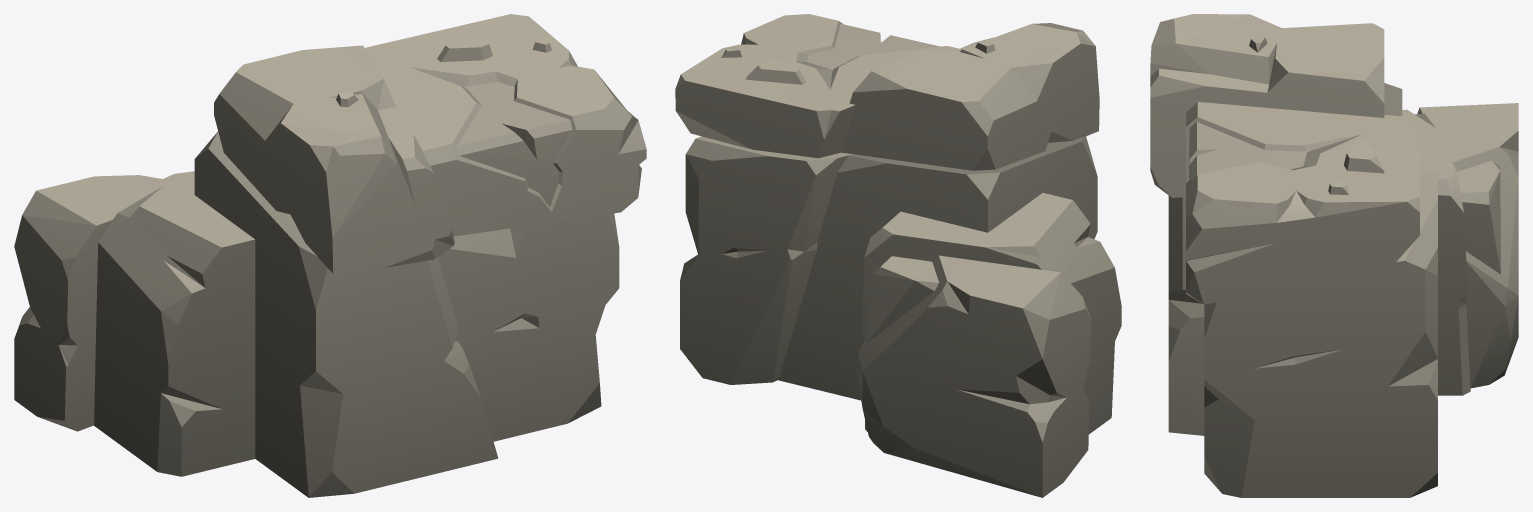
File: Rock_Large_2A.fbx
3 renders of one model, left to right at view 1: azimuth 30°, elevation 25°; view 2: azimuth 150°, elevation 25°; view 3: azimuth 270°, elevation 25°, orthographic. The views are drawn at different scales.
Visible parts, largest first — view 1: Rock_Large_2A; view 2: Rock_Large_2A; view 3: Rock_Large_2A.
Boxes of the visible parts, x1,y1,x2,y2 form: Rock_Large_2A: (14, 14, 646, 497); Rock_Large_2A: (675, 14, 1121, 497); Rock_Large_2A: (1150, 14, 1518, 497).
Size of the model in its own units: 4.39 by 3.24 by 3.15.
